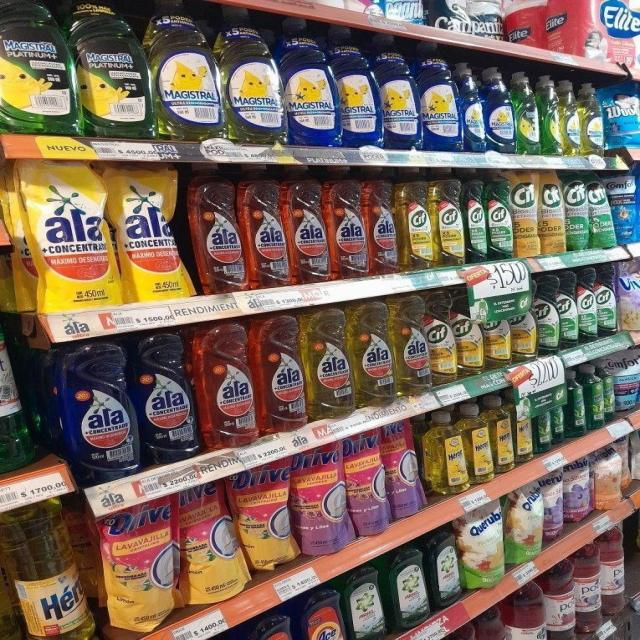ala_conc_amarillo: (306, 307, 352, 420), (353, 300, 393, 407), (395, 296, 429, 396)
ala_conc_azul: (56, 335, 134, 481), (134, 326, 196, 461)
ala_conc_rojo: (197, 318, 256, 448), (191, 164, 244, 294), (257, 311, 305, 431), (246, 166, 288, 289), (290, 167, 330, 284), (329, 171, 368, 279), (368, 173, 398, 275)
ala_sachet_amarillo: (18, 157, 116, 310), (117, 161, 188, 302)
cif_conc_bot_amarilla: (399, 175, 433, 270), (434, 173, 464, 266), (428, 292, 456, 384), (456, 291, 484, 376)
cif_conc_botella_verde: (488, 172, 512, 260), (466, 174, 486, 263), (536, 275, 558, 354), (597, 264, 618, 336), (559, 271, 578, 349), (578, 268, 597, 342)
cif_conc_sachet_amarillo: (513, 170, 539, 257), (539, 170, 564, 254)
cif_conc_sachet_verde: (565, 171, 590, 251), (590, 172, 616, 248)
magistral_con_amarillo: (152, 0, 220, 142), (223, 6, 282, 145), (581, 81, 604, 156), (562, 79, 580, 155)
magistral_con_azul: (486, 67, 514, 153), (462, 64, 484, 152)
